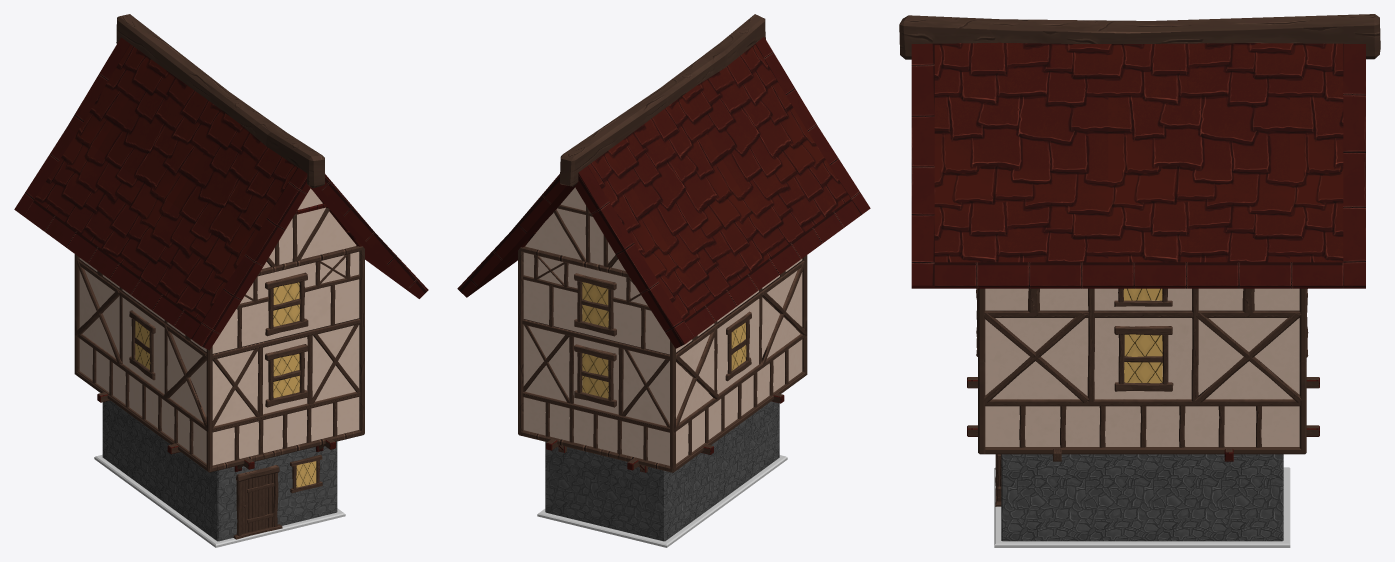
Rendered from HouseH.fbx.
3 renders of one model, left to right at view 1: azimuth 30°, elevation 25°; view 2: azimuth 150°, elevation 25°; view 3: azimuth 270°, elevation 25°, orthographic. The views are drawn at different scales.
Visible parts, largest first — view 1: Cube.111; view 2: Cube.111; view 3: Cube.111.
Boxes of the visible parts, x1=… form: Cube.111: x1=14, y1=14, x2=428, y2=547; Cube.111: x1=457, y1=14, x2=870, y2=547; Cube.111: x1=899, y1=14, x2=1380, y2=547.
Size of the model in its own units: 11.4 by 19.21 by 17.04.
